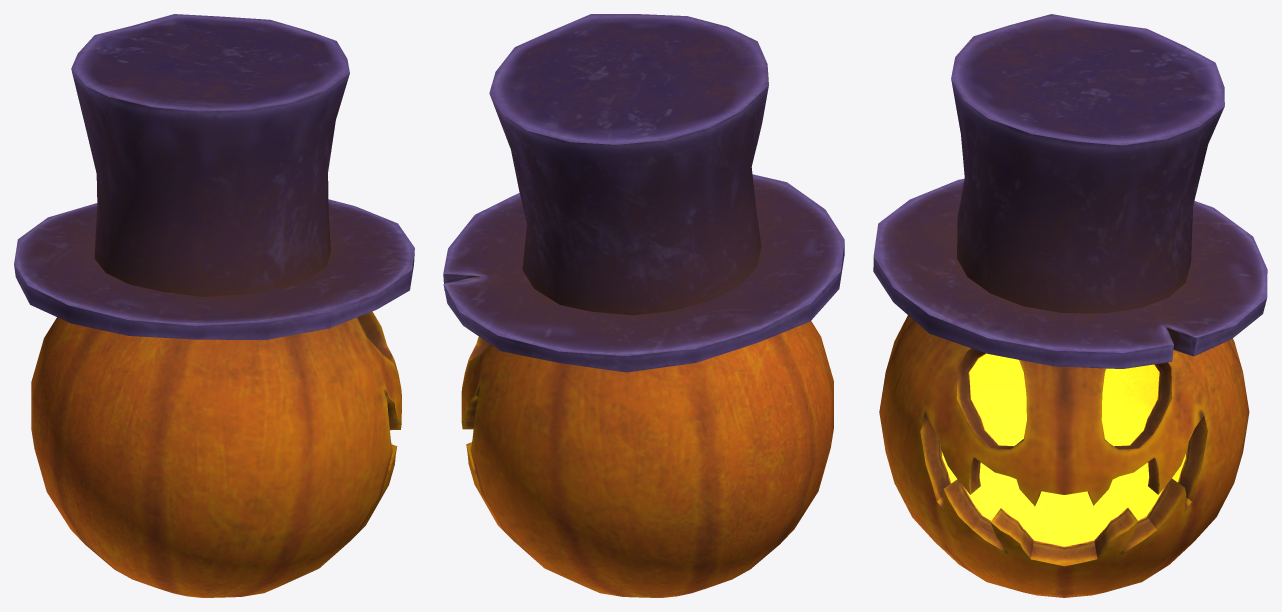
3 renders of one model, left to right at view 1: azimuth 30°, elevation 25°; view 2: azimuth 150°, elevation 25°; view 3: azimuth 270°, elevation 25°, orthographic.
Parts seen in each view (by area): view 1: z_hat_low.001, z_face_low.001; view 2: z_hat_low.001, z_face_low.001; view 3: z_hat_low.001, z_face_low.001.
Boxes of the visible parts, x1,y1,x2,y2 form: z_hat_low.001: [14, 14, 414, 339]; z_face_low.001: [31, 311, 401, 597]; z_hat_low.001: [443, 14, 844, 372]; z_face_low.001: [461, 321, 833, 597]; z_hat_low.001: [873, 14, 1267, 368]; z_face_low.001: [879, 315, 1249, 597].
Size of the model in its own units: 0.6264 by 0.8819 by 0.6141.
1 material, 1 textured.
